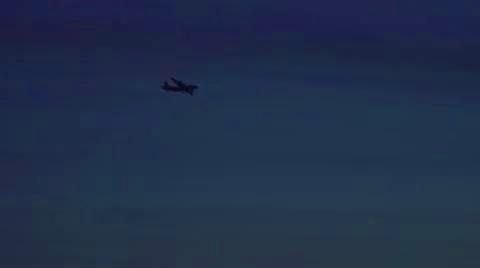Plane: (142, 70, 217, 102)
